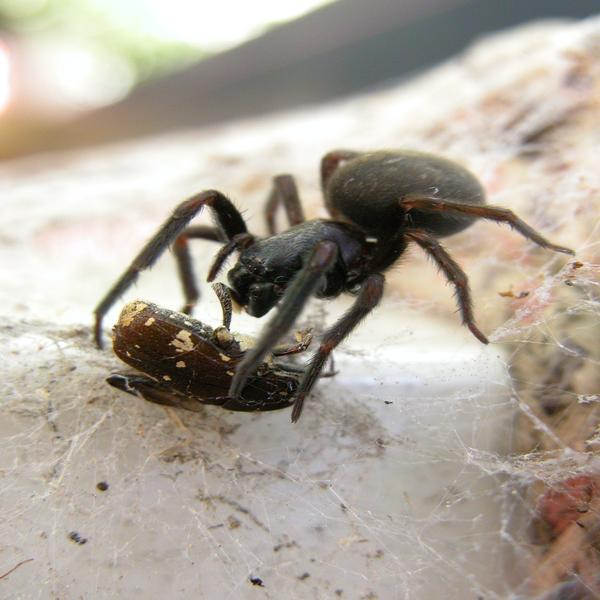White-Tailed_Spider: (94, 147, 574, 420)
